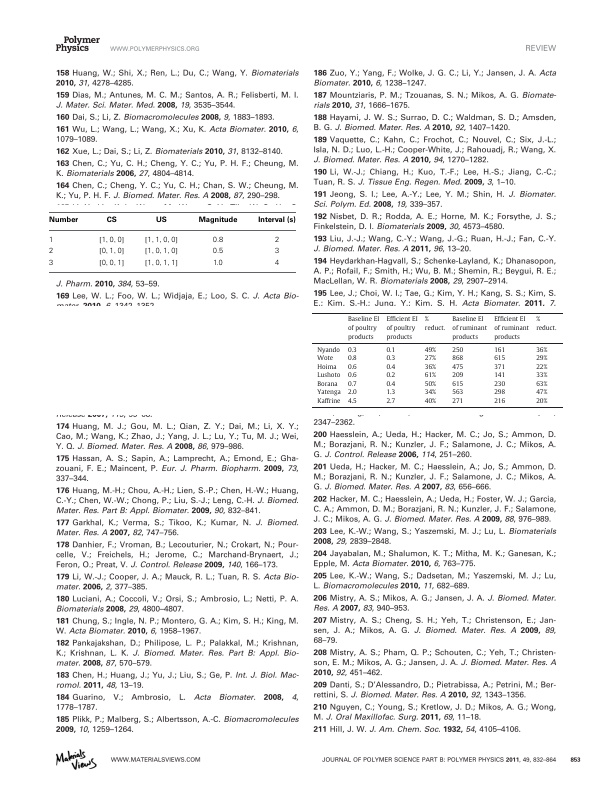borderless: (311, 311, 563, 407), (48, 210, 296, 272)
cell: (451, 316, 488, 341), (493, 316, 530, 341), (347, 316, 380, 341), (386, 316, 419, 341), (197, 216, 238, 225), (535, 316, 558, 332), (424, 316, 446, 332), (257, 216, 296, 225), (143, 235, 178, 244), (143, 258, 178, 267), (47, 216, 79, 225), (143, 247, 178, 255), (98, 235, 125, 244), (98, 258, 125, 267), (316, 397, 342, 406), (316, 371, 341, 380), (98, 247, 125, 255), (316, 389, 342, 397), (316, 346, 341, 354), (316, 380, 339, 388), (316, 363, 338, 371), (316, 354, 334, 363), (154, 216, 167, 225), (424, 354, 437, 363), (451, 354, 464, 363), (493, 354, 506, 363), (535, 354, 548, 363), (424, 371, 437, 380), (451, 371, 464, 380), (493, 371, 506, 380), (535, 371, 548, 380), (424, 397, 437, 406), (451, 397, 464, 406), (493, 397, 506, 406), (535, 397, 548, 406), (105, 216, 117, 225), (211, 235, 224, 243), (424, 346, 437, 354), (451, 346, 464, 354), (493, 346, 506, 354), (535, 346, 548, 354), (424, 363, 437, 371), (451, 363, 464, 371), (493, 363, 506, 371), (535, 363, 548, 371), (424, 380, 437, 388), (451, 380, 464, 388), (493, 380, 506, 388), (535, 380, 548, 388), (424, 389, 437, 397), (451, 389, 464, 397), (493, 389, 506, 397), (535, 389, 548, 397), (347, 354, 358, 363), (347, 371, 358, 380), (347, 397, 358, 406), (211, 247, 224, 254), (386, 354, 396, 363), (386, 371, 396, 380), (386, 397, 396, 406), (212, 258, 223, 266), (347, 346, 358, 354), (347, 363, 358, 371), (347, 380, 358, 388), (347, 389, 358, 397), (386, 346, 396, 354), (386, 363, 396, 371), (386, 380, 396, 388), (386, 389, 396, 397), (47, 235, 54, 243), (273, 235, 279, 243), (48, 258, 54, 266), (273, 258, 279, 266), (48, 247, 54, 254), (273, 247, 279, 254)
